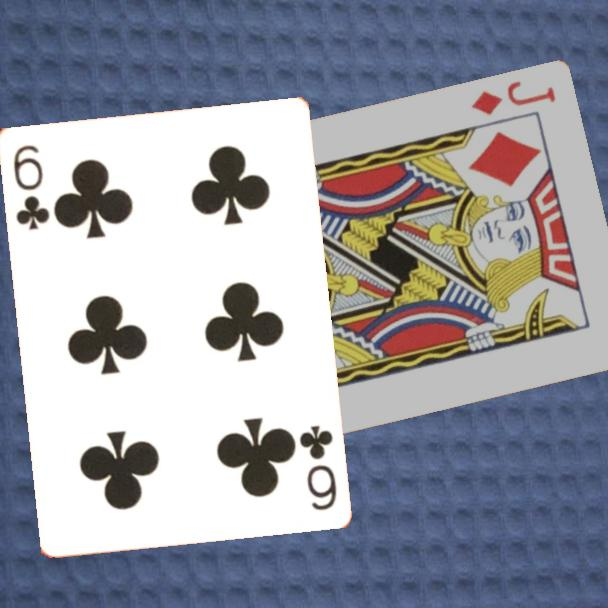c06: (9, 141, 52, 233), (296, 422, 339, 513)
d11: (467, 78, 558, 119)
